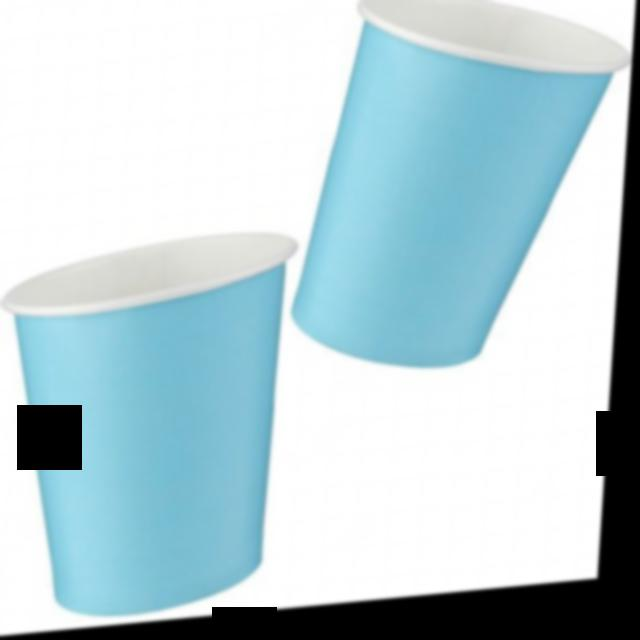karton-bardak: (0, 199, 317, 631)
